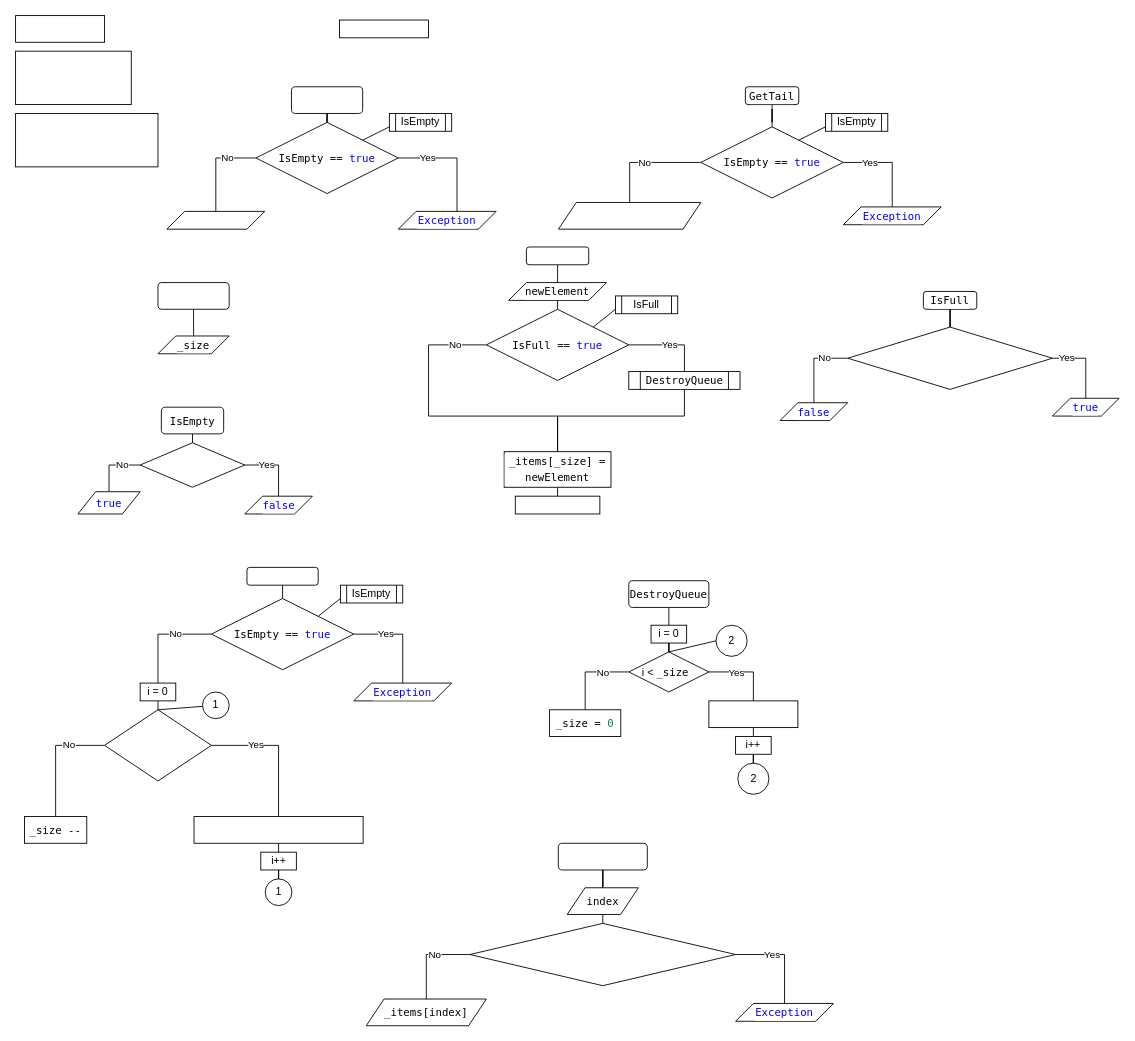
The diagram is 1135 pixels wide and 1041 high, and some of its shapes have lost their labels. Each missing label, with the centre of its shape:
_items[ 0 ]: the point at 215,219
_items[_size - 1 ]: the point at 629,215
_items[i] = 0: the point at 753,714
_items[i] = _items[i + 1 ]: the point at 278,829
_size != 0: the point at 192,464
_size ++: the point at 557,504
_size == _items.Length: the point at 949,357
class Queue: the point at 60,28
Constructor _items = new int [ 16 ] _size = 0: the point at 86,140
Dequeue: the point at 282,575
Enqueue: the point at 557,255
Fields: int [] _items private int _size: the point at 73,77
GetElement: the point at 602,856
GetHead: the point at 327,99
GetSize: the point at 193,295
i < _size - 1: the point at 157,745
index < 0 || index > _size - 1: the point at 602,954
Methods for class: the point at 384,28
